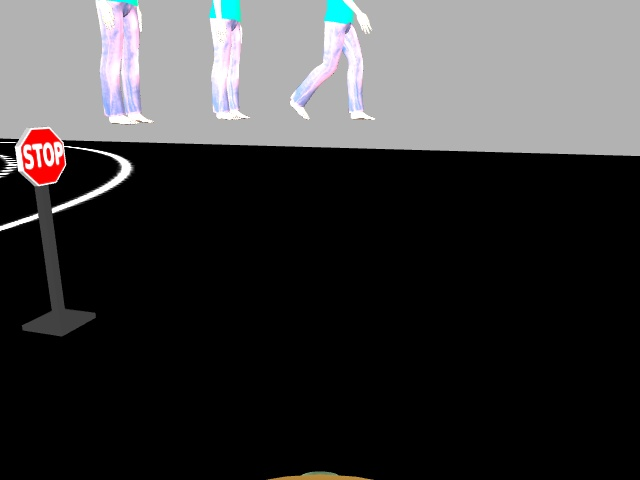Stop: (12, 125, 65, 185)
